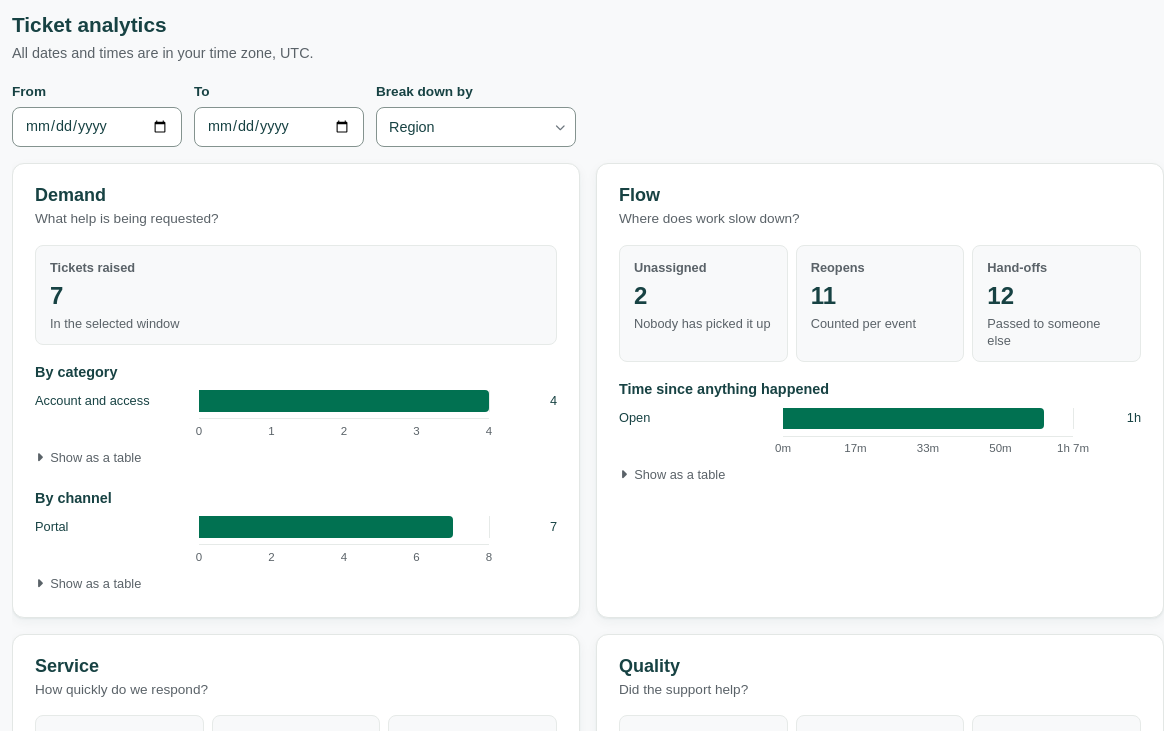
it: TicketAnalyticsPage › keeps naming the chosen breakdown while the window is refused
This screenshot has width=1164, height=731.
Press the mouse on the element with id "ticket-analytics-dimension": (476, 127) [376,107,576,147]
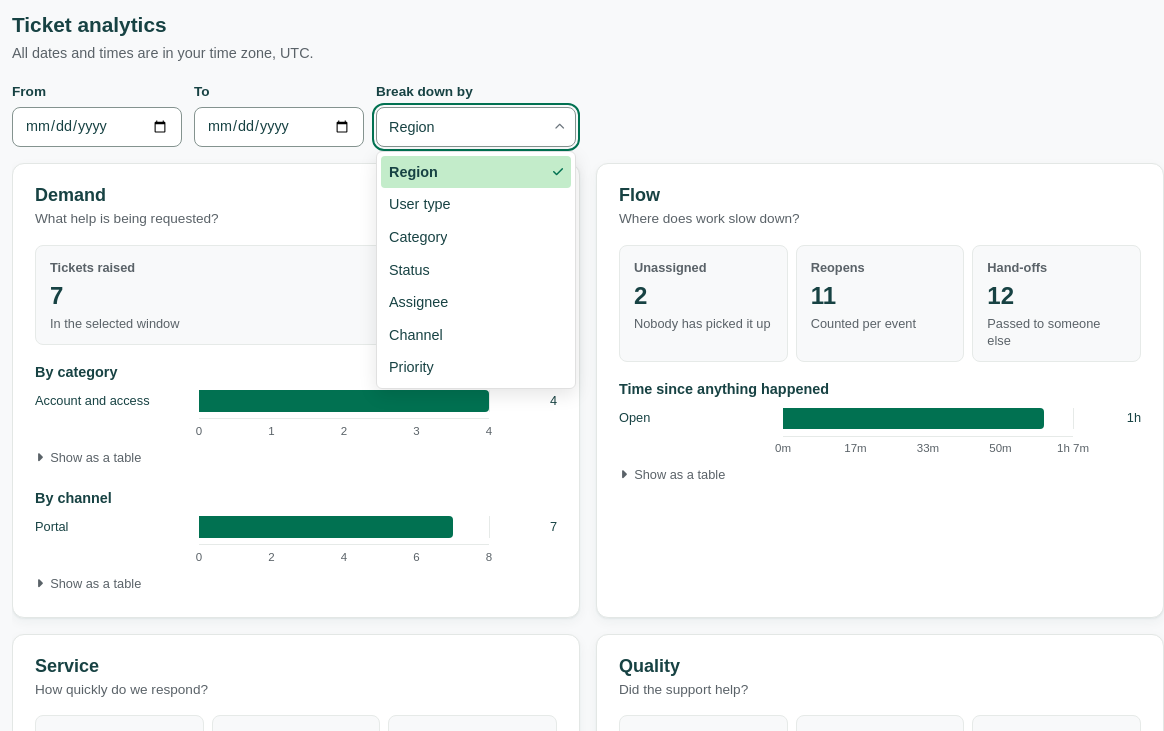
Press the mouse on the option "Priority": (411, 367) [389,359,434,375]
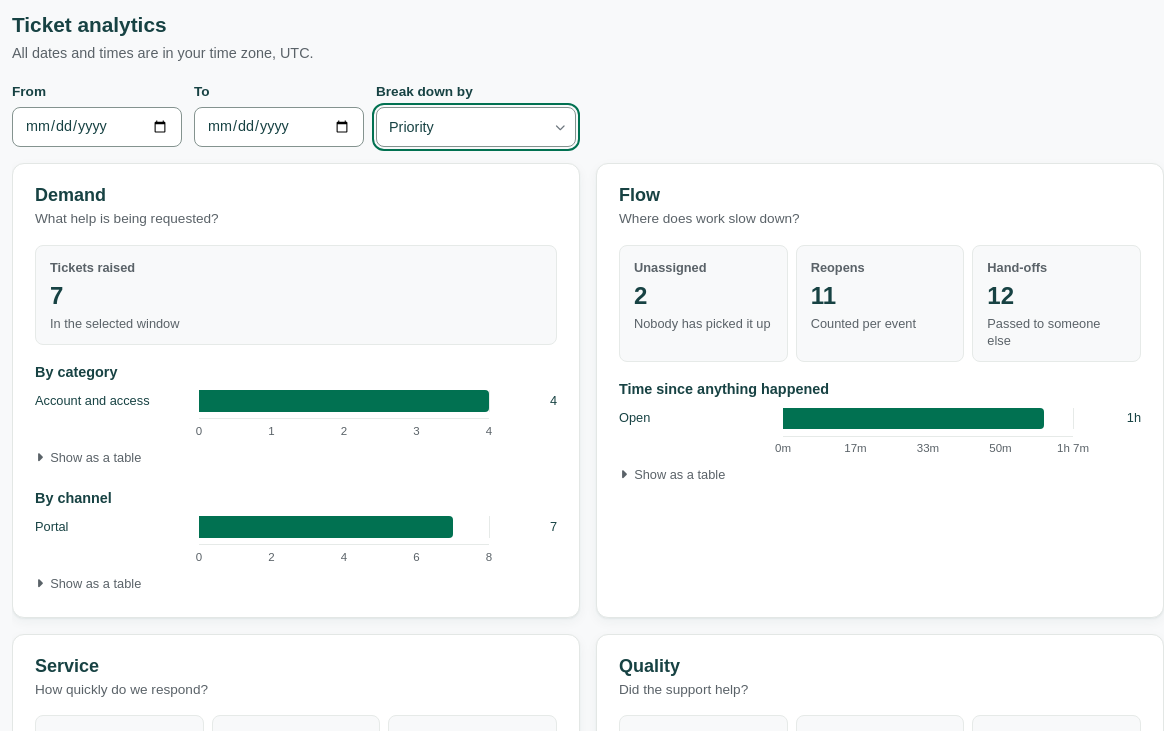
In the date field with id "ticket-analytics-from": (97, 127) [12,107,182,147], type "2026-09-10"
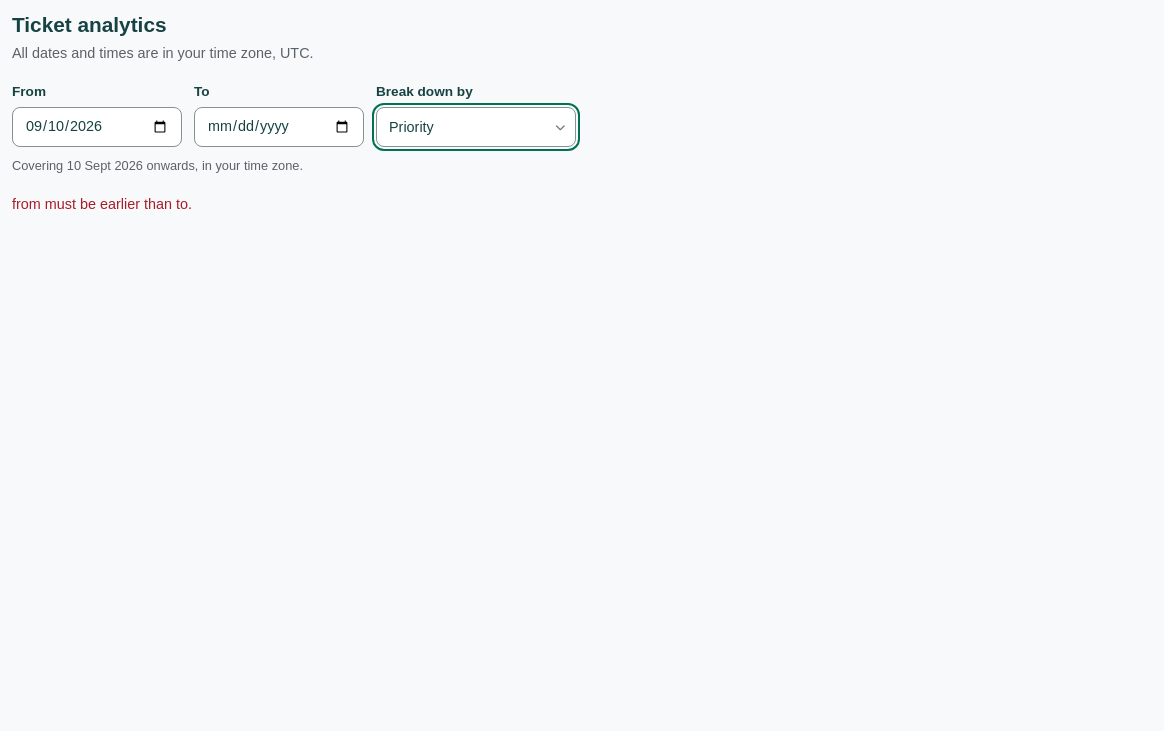
Expected: the message "from must be earlier than to." is shown, [12,196,192,212]
